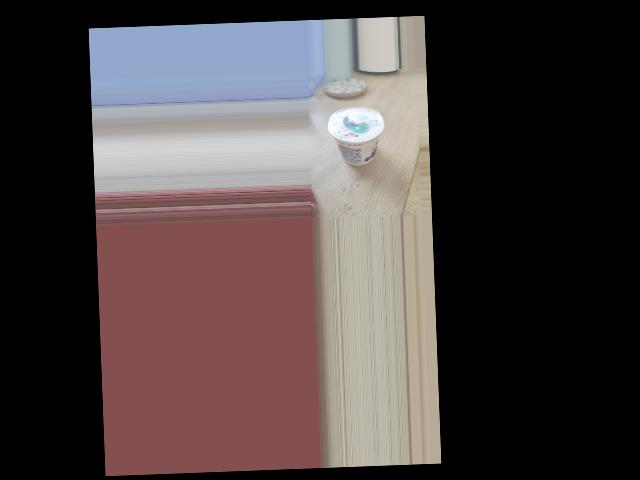cotage: (336, 103, 388, 175)
